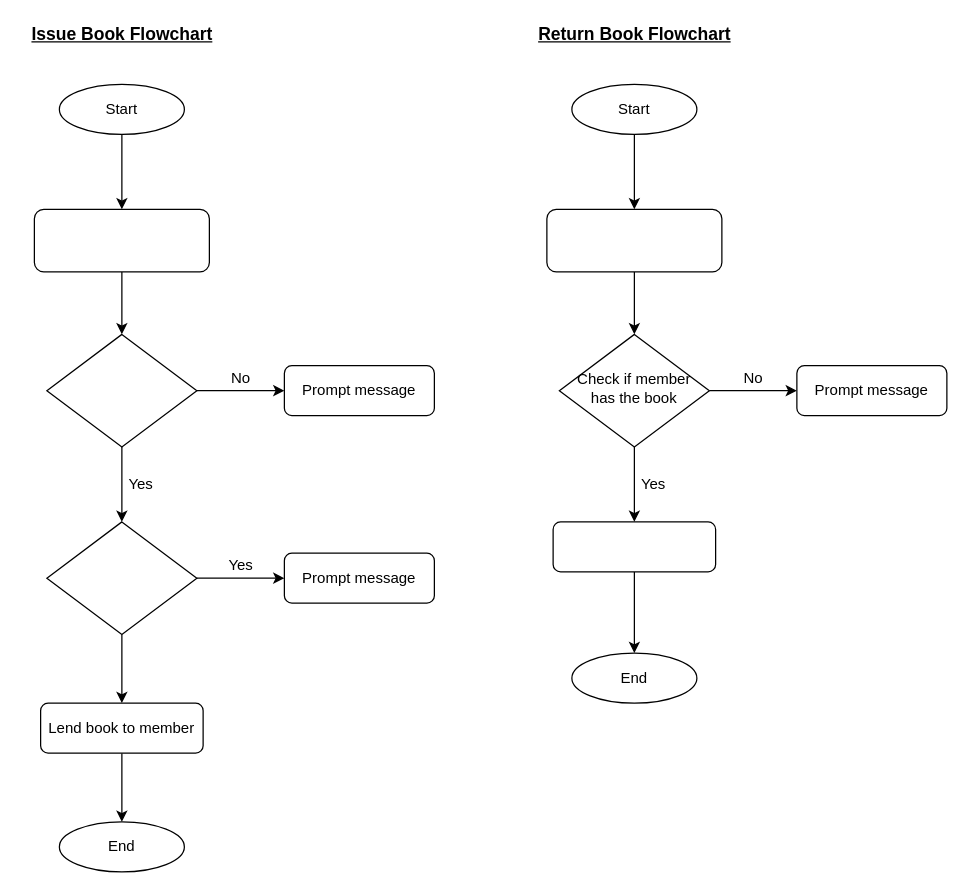
Image size: 969x894. Some labels were removed from this diagram. Here are the shapes that lost their labels. From the top down, the centre of each, then its label:
At (121,240): "Member issues book".
At (634,240): "Member returns book".
At (121,390): "Book exists in catalog?".
At (634,546): "Librarian adds book back to catalog".
At (121,577): "Check if member has this book".
